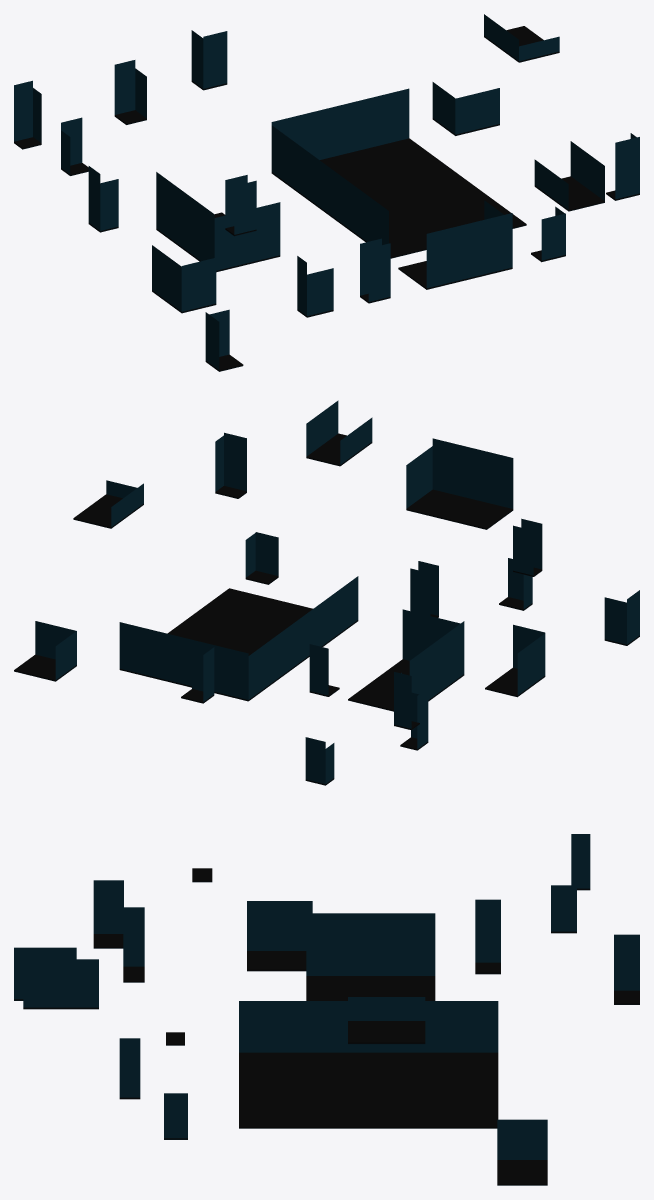
Rendered from far_ceiling_b.glb.
The picture shows the model from 3 angles, top to bottom: view 1: azimuth 30°, elevation 25°; view 2: azimuth 150°, elevation 25°; view 3: azimuth 270°, elevation 25°; orthographic projection. The views are drawn at different scales.
Visible parts, largest first — view 1: far_ceiling_skirt, tiles; view 2: far_ceiling_skirt, tiles; view 3: far_ceiling_skirt, tiles.
Part boxes in pixels (x1=…): far_ceiling_skirt: x1=14, y1=14, x2=639, y2=369; tiles: x1=14, y1=26, x2=639, y2=371; far_ceiling_skirt: x1=35, y1=400, x2=639, y2=784; tiles: x1=14, y1=433, x2=639, y2=785; far_ceiling_skirt: x1=14, y1=834, x2=639, y2=1159; tiles: x1=14, y1=868, x2=639, y2=1185.
Size of the model in its own units: 9.7 by 2.94 by 10.26.
